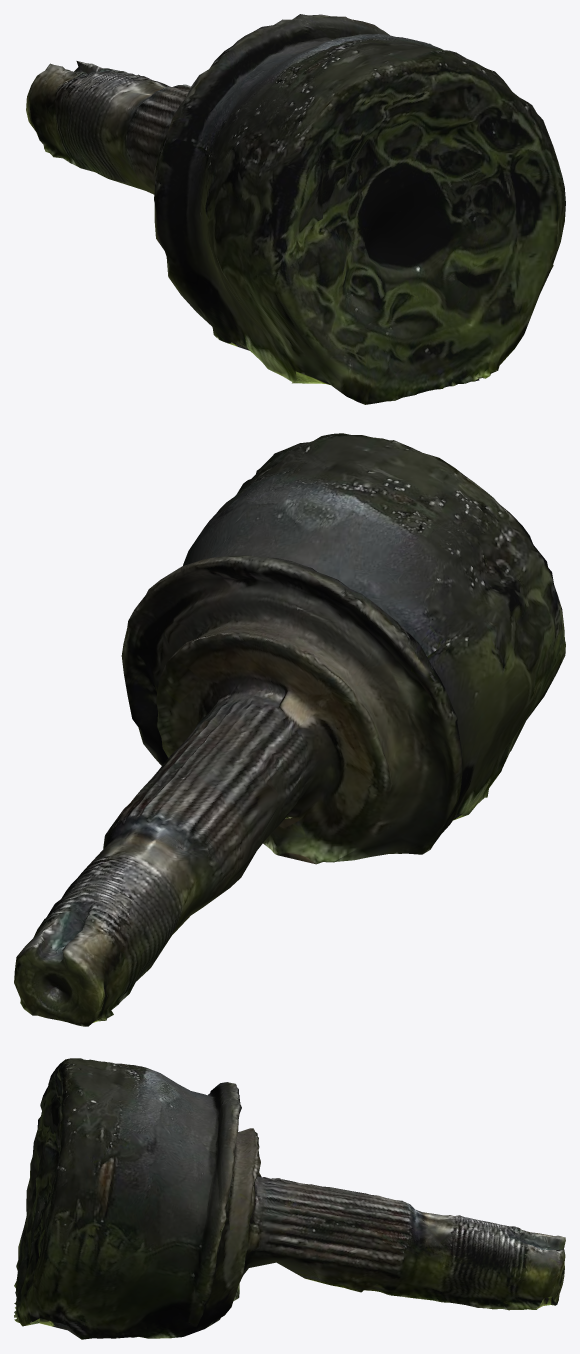
File: eje-bake.glb
3 views of the same model, one above another, from view 1: azimuth 30°, elevation 25°; view 2: azimuth 150°, elevation 25°; view 3: azimuth 270°, elevation 25° (orthographic). The views are drawn at different scales.
Visible parts, largest first — view 1: Mesh_0; view 2: Mesh_0; view 3: Mesh_0.
Boxes of the visible parts, x1=… form: Mesh_0: x1=26, y1=14, x2=565, y2=404; Mesh_0: x1=14, y1=433, x2=565, y2=1026; Mesh_0: x1=14, y1=1058, x2=565, y2=1339.
Bounding box in the file's own units: 0.3399 × 0.3129 × 0.6784.
1 material, 1 textured.
